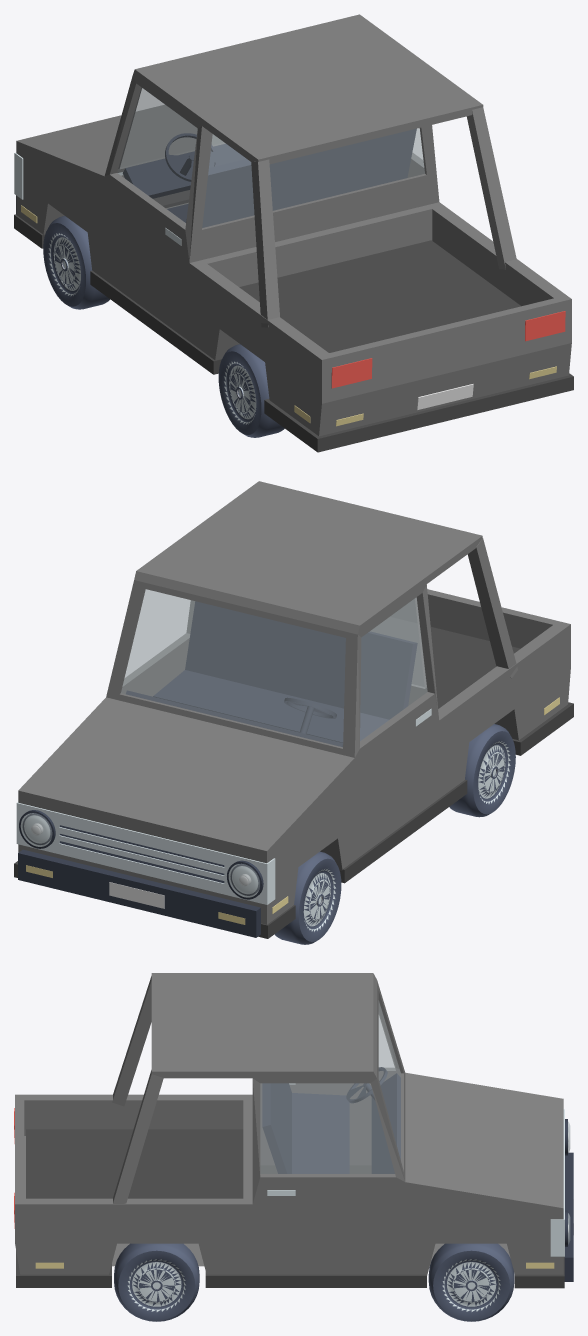
The model's file is Car.fbx.
The picture shows the model from 3 angles, top to bottom: view 1: azimuth 30°, elevation 25°; view 2: azimuth 150°, elevation 25°; view 3: azimuth 270°, elevation 25°; orthographic projection. The views are drawn at different scales.
Visible parts, largest first — view 1: Cube_2_3, Cube, Cube_13, Cube_1, Cylinder_1_2, Cylinder_7, Cube_1_2, Cube_2_2, Cube_15, Cube_2, Cube_12, Cube_11 (+3 smaller); view 2: Cube_2_3, Cube_13, Cube_3_2, Cube_4, Cube_14, Cube, Cylinder_1_2, Cylinder_7, Cube_1_2, Cube_2, Cylinder_2, Cylinder_2_3 (+6 smaller); view 3: Cube_2_3, Cube, Cylinder_5, Cylinder_6, Cube_14, Cube_2, Cube_13, Cube_15, Cube_2_2, Cube_1_2, Cube_1, Cube_4 (+2 smaller).
Part boxes in pixels (x1,y1,x2,y2): Cube_2_3: [16, 14, 571, 436]; Cube: [239, 240, 520, 352]; Cube_13: [186, 128, 416, 227]; Cube_1: [264, 373, 573, 452]; Cylinder_1_2: [218, 344, 284, 437]; Cylinder_7: [43, 216, 109, 309]; Cube_1_2: [251, 159, 279, 327]; Cube_2_2: [466, 107, 516, 269]; Cube_15: [123, 144, 246, 198]; Cube_2: [90, 270, 221, 374]; Cube_12: [331, 358, 372, 388]; Cube_11: [525, 311, 565, 341]; Cube_2_3: [18, 481, 570, 924]; Cube_13: [185, 601, 417, 719]; Cube_3_2: [16, 802, 275, 904]; Cube_4: [18, 849, 260, 937]; Cube_14: [153, 670, 388, 742]; Cube: [370, 617, 520, 708]; Cylinder_1_2: [449, 724, 515, 817]; Cylinder_7: [274, 851, 341, 944]; Cube_1_2: [467, 538, 517, 678]; Cube_2: [339, 779, 467, 883]; Cylinder_2: [19, 810, 55, 848]; Cylinder_2_3: [227, 860, 263, 899]; Cube_2_3: [15, 973, 563, 1275]; Cube: [26, 1129, 243, 1198]; Cylinder_5: [114, 1243, 199, 1321]; Cylinder_6: [428, 1243, 514, 1321]; Cube_14: [292, 1093, 349, 1173]; Cube_2: [205, 1165, 426, 1287]; Cube_13: [262, 1083, 291, 1173]; Cube_15: [371, 1073, 400, 1173]; Cube_2_2: [113, 1070, 163, 1203]; Cube_1_2: [112, 976, 151, 1106]; Cube_1: [16, 1250, 111, 1287]; Cube_4: [564, 1152, 573, 1281].
Bounding box in the file's own units: 155 × 158 × 324.
